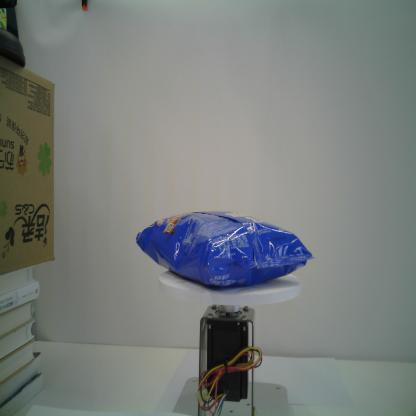Puffed Food: (135, 210, 317, 292)
